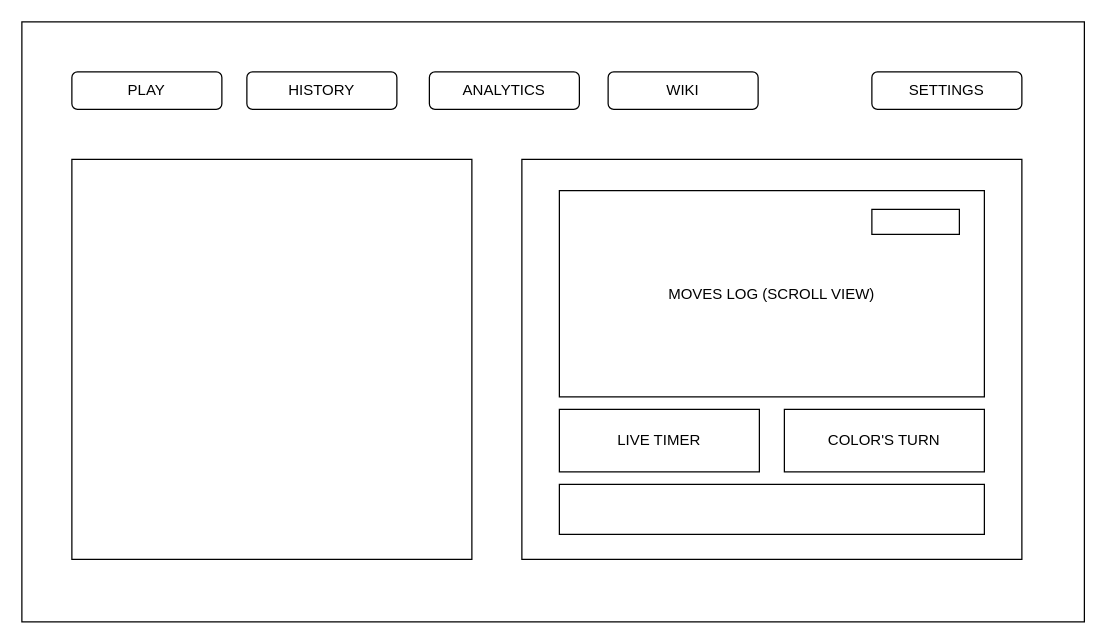
This 1106x644 diagram has some shape labels left out. The box of each missing label's shape, as (x1, y1, x2, y2) in pixels:
COPY: (871, 208, 959, 234)
GAME BOARD: (71, 158, 472, 559)
START GAME / END GAME: (558, 483, 984, 534)
